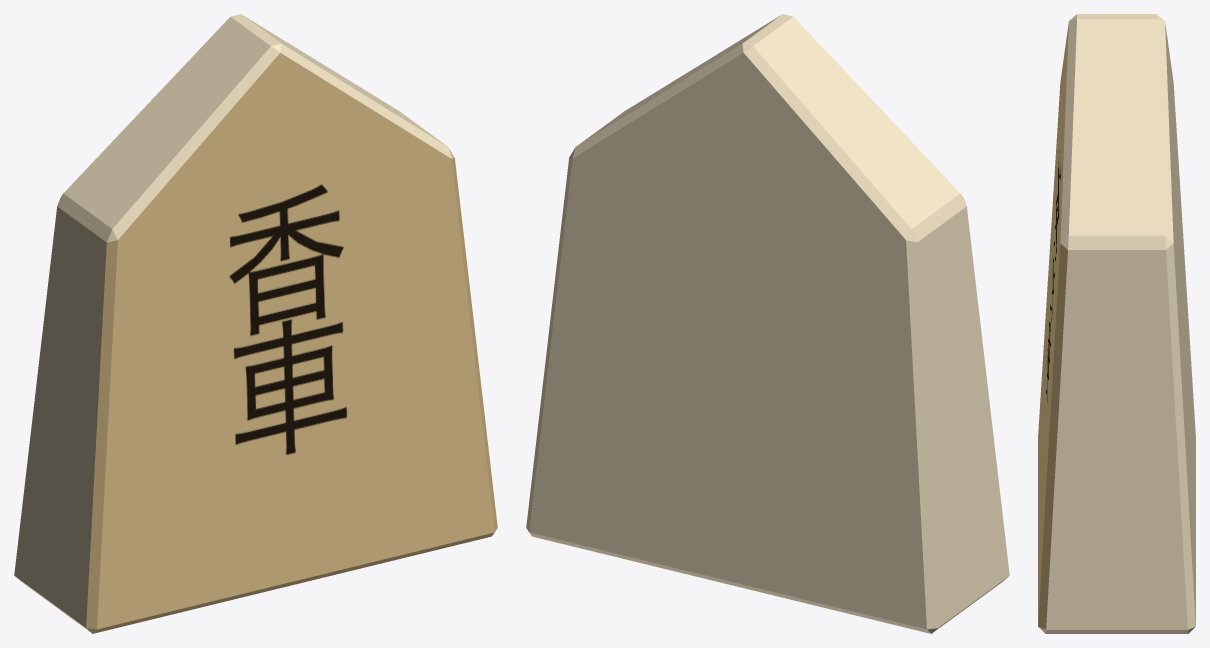
Rendered from Shogi_Lance.glb.
The picture shows the model from 3 angles, left to right: view 1: azimuth 30°, elevation 25°; view 2: azimuth 150°, elevation 25°; view 3: azimuth 270°, elevation 25°; orthographic projection.
Parts seen in each view (by area): view 1: Shogi_Lance; view 2: Shogi_Lance; view 3: Shogi_Lance.
Boxes of the visible parts, x1,y1,x2,y2 form: Shogi_Lance: [14, 14, 497, 633]; Shogi_Lance: [526, 14, 1009, 633]; Shogi_Lance: [1038, 14, 1195, 633].
Size of the model in its own units: 0.022 by 0.027 by 0.0074.
2 materials, 1 textured.
